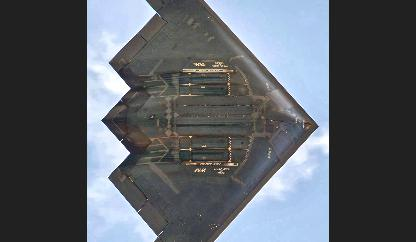B1: (88, 0, 321, 241)
